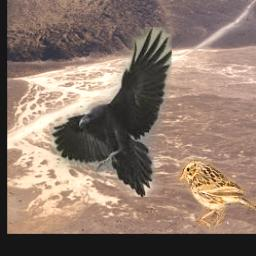Crow: (50, 27, 173, 197)
Sparrow: (178, 159, 256, 228)
